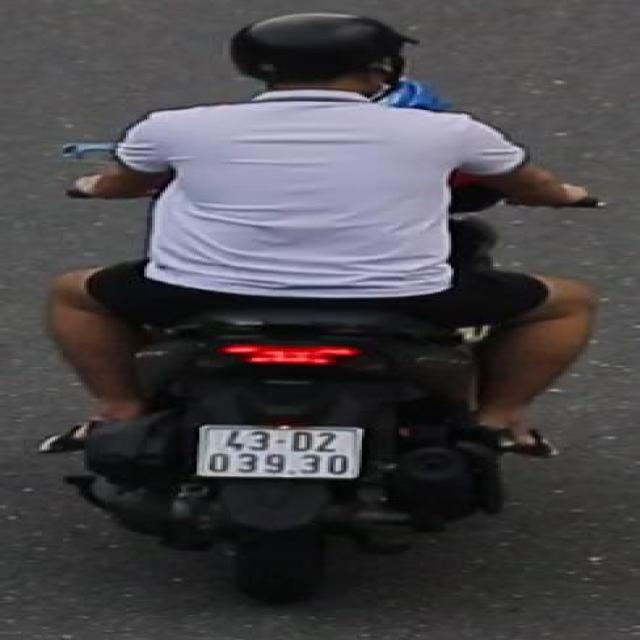LP: (190, 418, 371, 481)
helmet: (220, 8, 425, 111)
